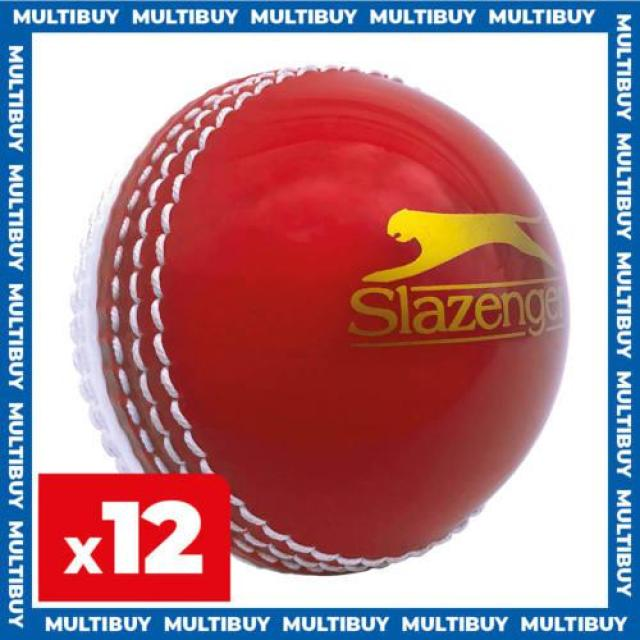ball: (74, 64, 574, 577)
